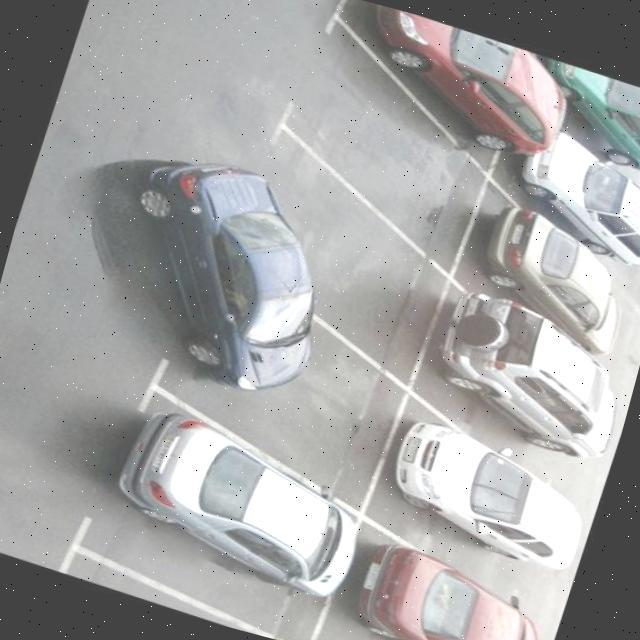space-empty: (238, 17, 527, 259)
space-occupied: (50, 396, 391, 640), (111, 268, 422, 508), (214, 139, 476, 353), (296, 0, 554, 169), (397, 288, 617, 486), (360, 400, 580, 596), (440, 190, 634, 361), (304, 514, 525, 640), (478, 110, 640, 258), (511, 53, 640, 189)
